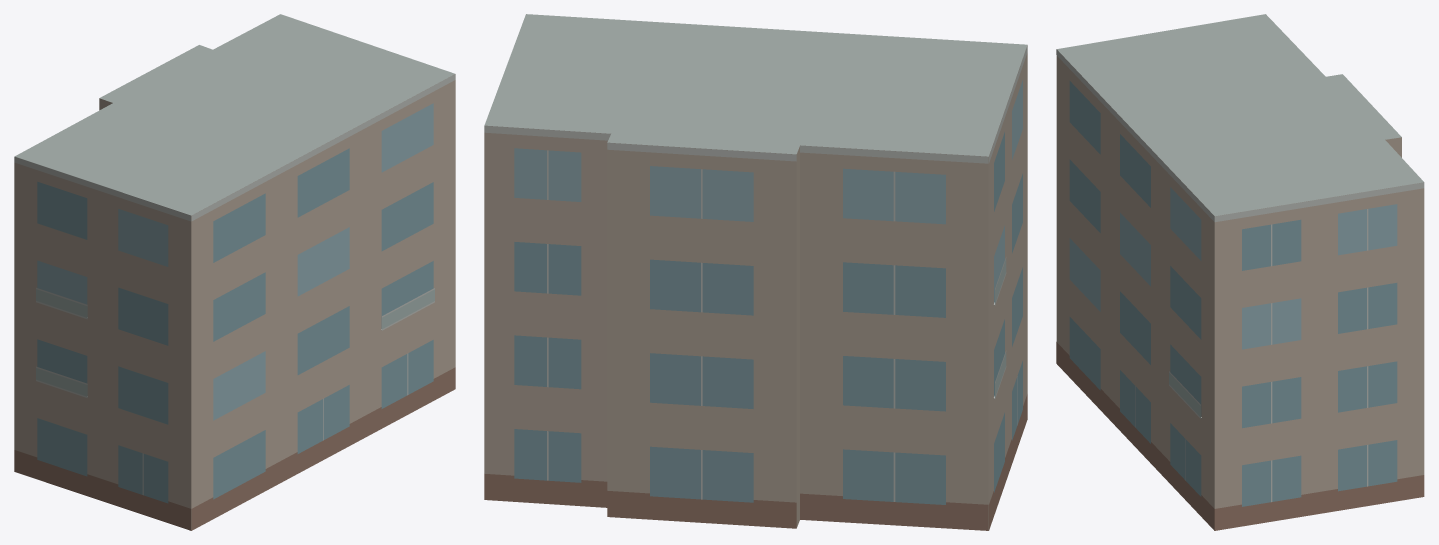
The model's file is survey-upis-32617537.glb.
3 views of the same model, side by side, from view 1: azimuth 30°, elevation 25°; view 2: azimuth 150°, elevation 25°; view 3: azimuth 270°, elevation 25° (orthographic). The views are drawn at different scales.
Visible parts, largest first — view 1: survey-upis-32617537.tmp; view 2: survey-upis-32617537.tmp; view 3: survey-upis-32617537.tmp.
Boxes of the visible parts, left/top/right/bottom form: survey-upis-32617537.tmp: left=14, top=14, right=455, bottom=530; survey-upis-32617537.tmp: left=484, top=14, right=1027, bottom=530; survey-upis-32617537.tmp: left=1056, top=14, right=1424, bottom=530.
Size of the model in its own units: 17.66 by 12.8 by 13.57.
